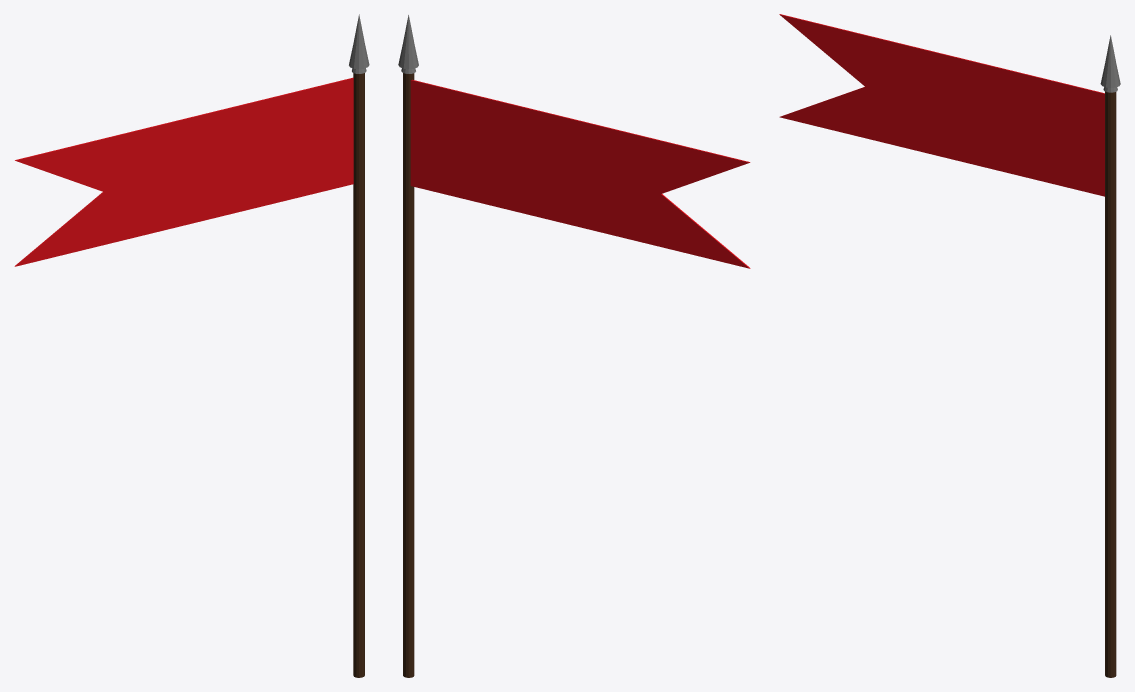
Rendered from bandeira vermelha.fbx.
The picture shows the model from 3 angles, left to right: view 1: azimuth 30°, elevation 25°; view 2: azimuth 150°, elevation 25°; view 3: azimuth 330°, elevation 25°; orthographic projection. The views are drawn at different scales.
Parts seen in each view (by area): view 1: bandeira_vermelha; view 2: bandeira_vermelha; view 3: bandeira_vermelha.
Part boxes in pixels (x1,y1,x2,y2): bandeira_vermelha: [14, 14, 369, 677]; bandeira_vermelha: [398, 15, 750, 677]; bandeira_vermelha: [779, 14, 1120, 677].
Size of the model in its own units: 224 by 402 by 11.01.
